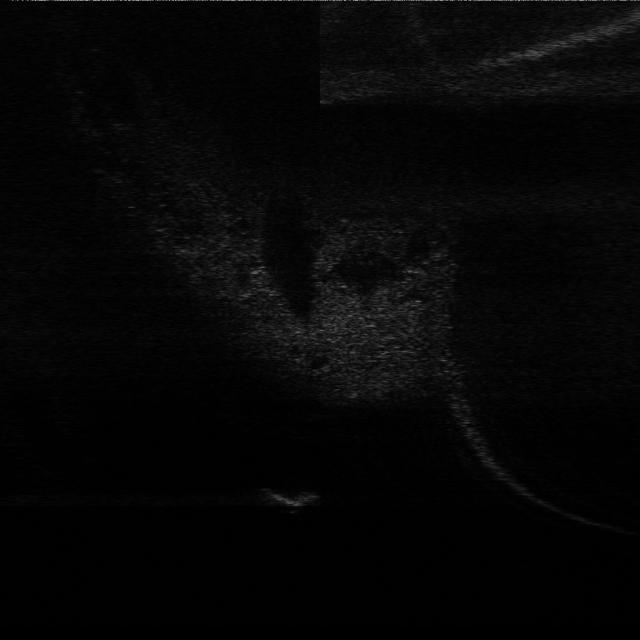square cage: (264, 474, 324, 515)
